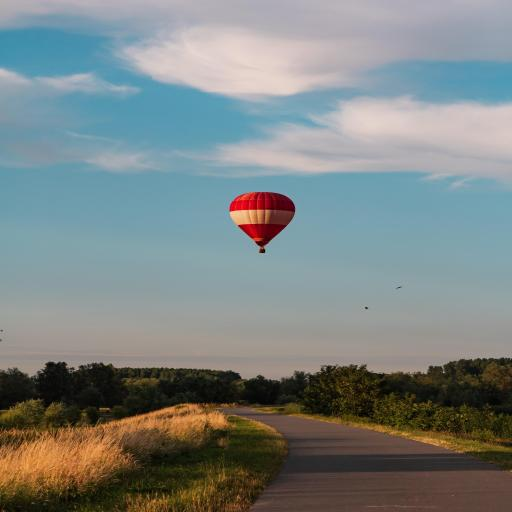hot air ballon: (227, 190, 297, 256)
